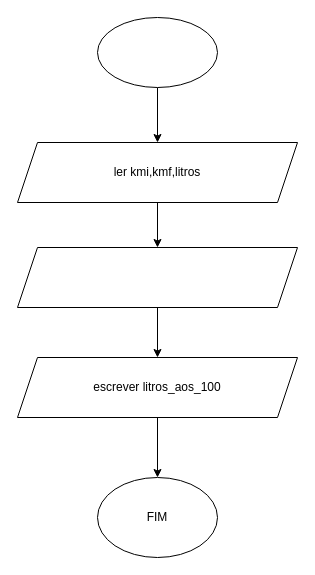
This 315x575 diagram has some shape labels left out. Each missing label, with the centre of its shape:
"INíCIO" belongs at (157,52).
"Litros_aos_100=litros*100(kmf-kmi)" belongs at (157,277).
